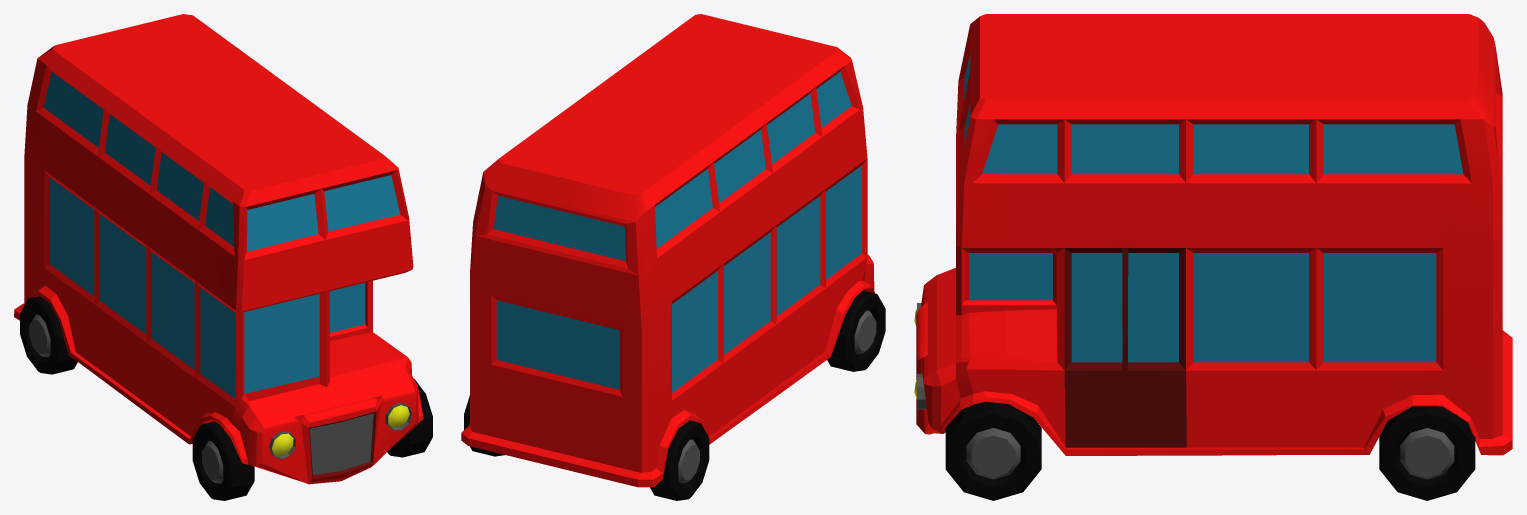
Rendered from BUS.FBX.
3 views of the same model, side by side, from view 1: azimuth 30°, elevation 25°; view 2: azimuth 150°, elevation 25°; view 3: azimuth 270°, elevation 25° (orthographic). The views are drawn at different scales.
Visible parts, largest first — view 1: BusBody, Tyre3, Tyre, Tyre1, Light2, Light1; view 2: BusBody, Tyre3, Tyre; view 3: BusBody, Tyre1, Tyre2.
Part boxes in pixels (left/top/right/bottom): BusBody: left=14, top=14, right=423, bottom=484; Tyre3: left=192, top=421, right=254, bottom=500; Tyre: left=20, top=296, right=77, bottom=374; Tyre1: left=387, top=379, right=432, bottom=457; Light2: left=385, top=402, right=412, bottom=430; Light1: left=269, top=431, right=295, bottom=459; BusBody: left=461, top=14, right=874, bottom=487; Tyre3: left=827, top=290, right=885, bottom=371; Tyre: left=650, top=420, right=709, bottom=500; BusBody: left=916, top=14, right=1512, bottom=455; Tyre1: left=945, top=401, right=1041, bottom=500; Tyre2: left=1379, top=406, right=1475, bottom=500.
Bounding box in the file's own units: 73.48 × 105 × 148.
